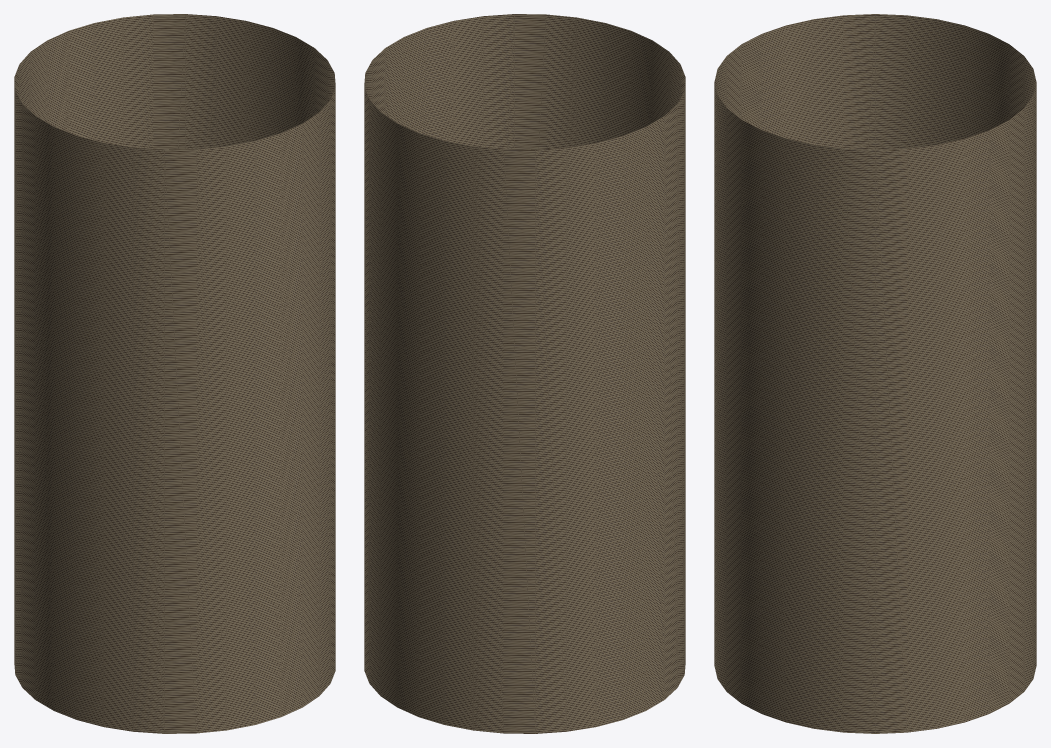
File: rope.fbx
3 renders of one model, left to right at view 1: azimuth 30°, elevation 25°; view 2: azimuth 150°, elevation 25°; view 3: azimuth 270°, elevation 25°, orthographic.
Visible parts, largest first — view 1: Cylinder.002; view 2: Cylinder.002; view 3: Cylinder.002.
Boxes of the visible parts, bbox=[...] form: Cylinder.002: bbox=[14, 14, 335, 733]; Cylinder.002: bbox=[364, 14, 685, 733]; Cylinder.002: bbox=[714, 14, 1036, 733].
Bounding box in the file's own units: 100 × 200 × 100.
